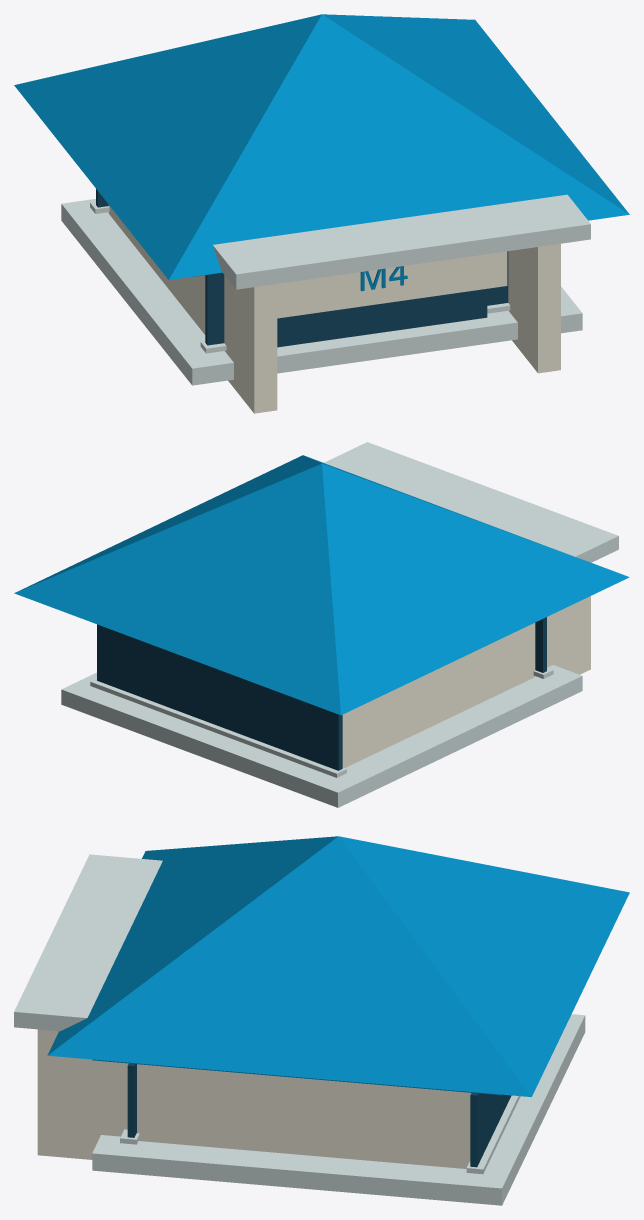
File: mahad-m4.glb
3 views of the same model, one above another, from view 1: azimuth 30°, elevation 25°; view 2: azimuth 150°, elevation 25°; view 3: azimuth 270°, elevation 25° (orthographic). The views are drawn at different scales.
Parts seen in each view (by area): view 1: Mahad_M4_blue, Mahad_M4_trim, Mahad_M4_ivory, Mahad_M4_glass; view 2: Mahad_M4_blue, Mahad_M4_trim, Mahad_M4_glass, Mahad_M4_ivory; view 3: Mahad_M4_blue, Mahad_M4_ivory, Mahad_M4_trim, Mahad_M4_glass.
Boxes of the visible parts, left/top/right/bottom form: Mahad_M4_blue: left=14, top=14, right=629, bottom=291; Mahad_M4_trim: left=61, top=194, right=590, bottom=385; Mahad_M4_ivory: left=108, top=205, right=560, bottom=413; Mahad_M4_glass: left=96, top=189, right=508, bottom=347; Mahad_M4_blue: left=14, top=455, right=629, bottom=715; Mahad_M4_trim: left=61, top=442, right=618, bottom=807; Mahad_M4_glass: left=97, top=617, right=546, bottom=770; Mahad_M4_ivory: left=342, top=596, right=590, bottom=767; Mahad_M4_blue: left=47, top=836, right=629, bottom=1096; Mahad_M4_ivory: left=37, top=1029, right=471, bottom=1168; Mahad_M4_trim: left=14, top=854, right=585, bottom=1205; Mahad_M4_glass: left=127, top=1063, right=511, bottom=1167.
Bounding box in the file's own units: 15.32 × 7.95 × 16.2.
